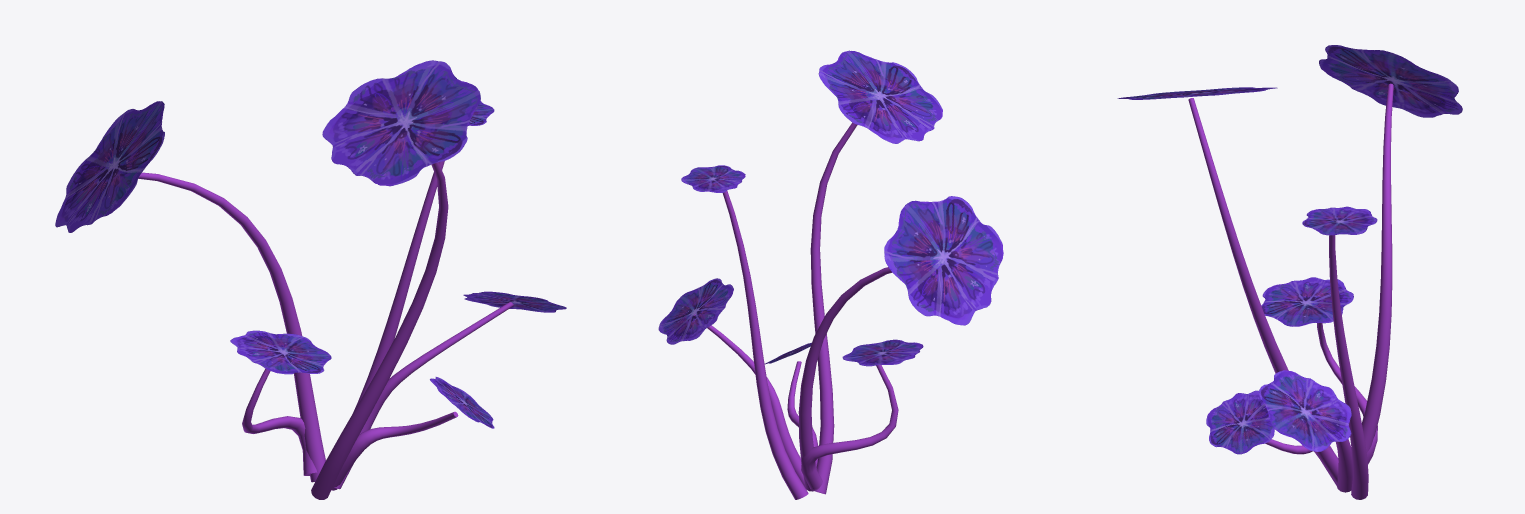
The model's file is plante_violette2.fbx.
3 views of the same model, side by side, from view 1: azimuth 30°, elevation 25°; view 2: azimuth 150°, elevation 25°; view 3: azimuth 270°, elevation 25° (orthographic). The views are drawn at different scales.
Visible parts, largest first — view 1: feuille4.008, feuille4.006, BezierCurve.006, BezierCurve.007, feuille4.007, BezierCurve.009, BezierCurve.008, BezierCurve.010, BezierCurve.011, feuille4.009, feuille4.011; view 2: feuille4.006, feuille4.008, BezierCurve.006, BezierCurve.009, feuille4.009, BezierCurve.007, BezierCurve.010, feuille4.007, BezierCurve.008, feuille4.010, BezierCurve.011; view 3: feuille4.006, feuille4.009, BezierCurve.007, feuille4.007, feuille4.011, BezierCurve.009, BezierCurve.006, feuille4.010, feuille4.008, BezierCurve.011, BezierCurve.010, BezierCurve.008.
Boxes of the visible parts, left/top/right/bottom form: feuille4.008: left=322, top=60, right=480, bottom=186; feuille4.006: left=55, top=101, right=164, bottom=232; BezierCurve.006: left=311, top=162, right=448, bottom=499; BezierCurve.007: left=138, top=172, right=325, bottom=482; feuille4.007: left=230, top=330, right=331, bottom=374; BezierCurve.009: left=331, top=161, right=444, bottom=490; BezierCurve.008: left=334, top=302, right=514, bottom=489; BezierCurve.010: left=242, top=369, right=317, bottom=475; BezierCurve.011: left=331, top=411, right=458, bottom=490; feuille4.009: left=463, top=291, right=566, bottom=312; feuille4.011: left=430, top=377, right=494, bottom=428; feuille4.006: left=884, top=196, right=1003, bottom=325; feuille4.008: left=818, top=50, right=942, bottom=143; BezierCurve.006: left=810, top=122, right=857, bottom=494; BezierCurve.009: left=722, top=191, right=808, bottom=499; feuille4.009: left=658, top=278, right=733, bottom=344; BezierCurve.007: left=798, top=267, right=891, bottom=491; BezierCurve.010: left=801, top=365, right=898, bottom=489; feuille4.007: left=842, top=339, right=923, bottom=366; BezierCurve.008: left=693, top=314, right=805, bottom=487; feuille4.010: left=681, top=165, right=745, bottom=192; BezierCurve.011: left=787, top=361, right=818, bottom=484; feuille4.006: left=1319, top=45, right=1462, bottom=117; feuille4.009: left=1259, top=370, right=1351, bottom=451; BezierCurve.007: left=1362, top=83, right=1393, bottom=452; feuille4.007: left=1261, top=277, right=1353, bottom=326; feuille4.011: left=1206, top=390, right=1274, bottom=454; BezierCurve.009: left=1329, top=235, right=1368, bottom=499; BezierCurve.006: left=1188, top=98, right=1336, bottom=485; feuille4.010: left=1302, top=206, right=1377, bottom=235; feuille4.008: left=1117, top=87, right=1277, bottom=99; BezierCurve.011: left=1265, top=439, right=1338, bottom=484; BezierCurve.010: left=1317, top=323, right=1377, bottom=464; BezierCurve.008: left=1309, top=411, right=1352, bottom=492.
Bounding box in the file's own units: 183 × 173 × 149.
Materials: 2 (1 with a texture image).
